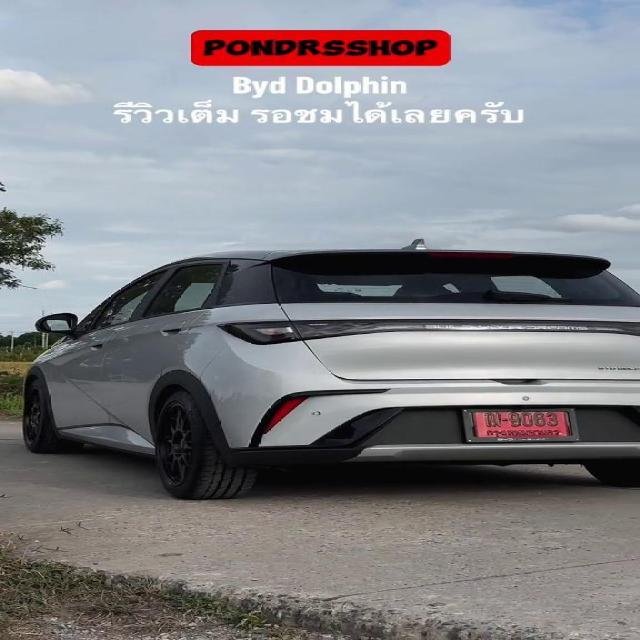Hatchback: (22, 240, 639, 499)
